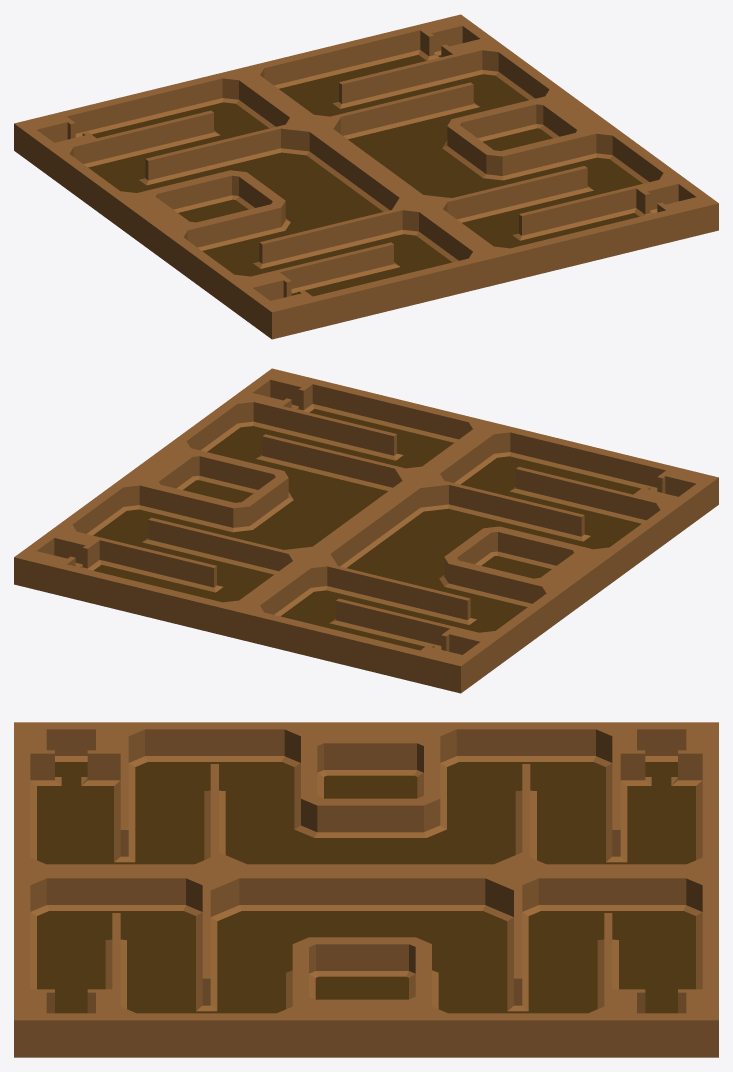
The model's file is TutorialZone 1.fbx.
3 renders of one model, top to bottom at view 1: azimuth 30°, elevation 25°; view 2: azimuth 150°, elevation 25°; view 3: azimuth 270°, elevation 25°, orthographic. The views are drawn at different scales.
Parts seen in each view (by area): view 1: Model; view 2: Model; view 3: Model.
Part boxes in pixels (box(x1,y1,x2,y2)): Model: box(14, 14, 718, 339); Model: box(14, 368, 718, 693); Model: box(14, 722, 718, 1057).
Bounding box in the file's own units: 215 × 12.5 × 215.
